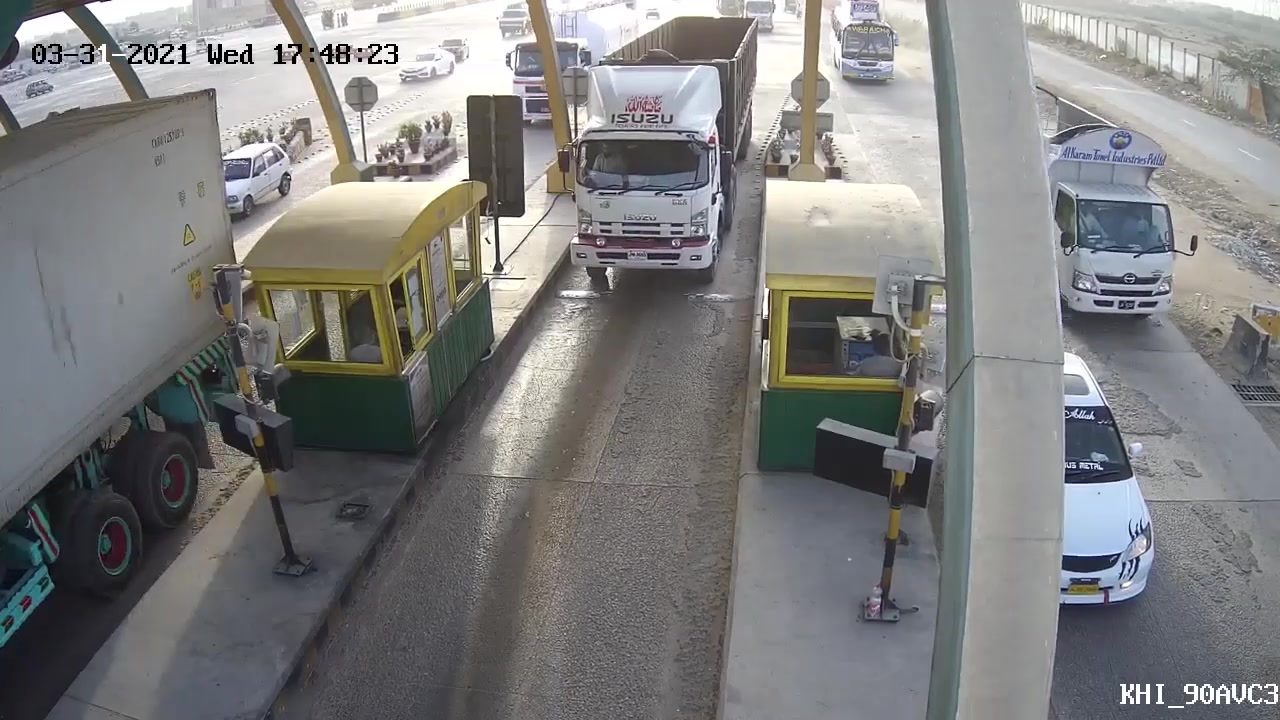F5: (566, 11, 763, 282)
